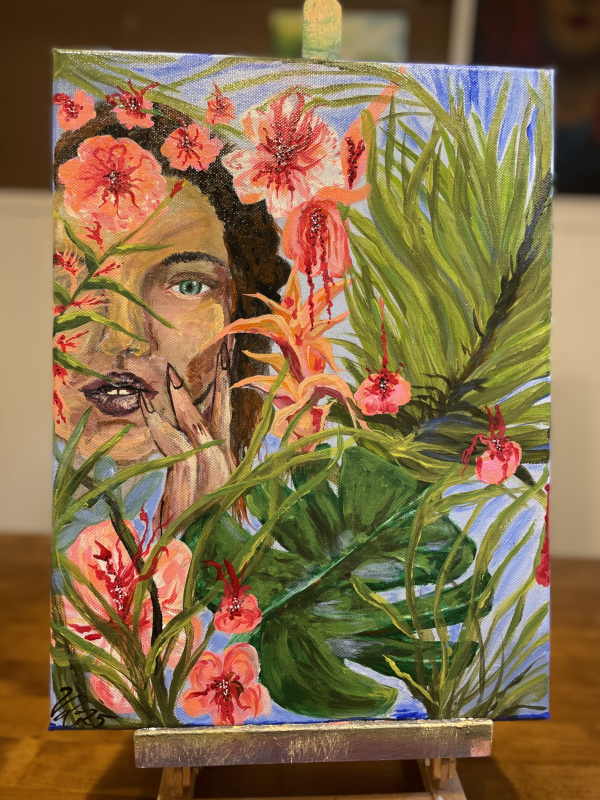painting: (48, 48, 554, 732)
